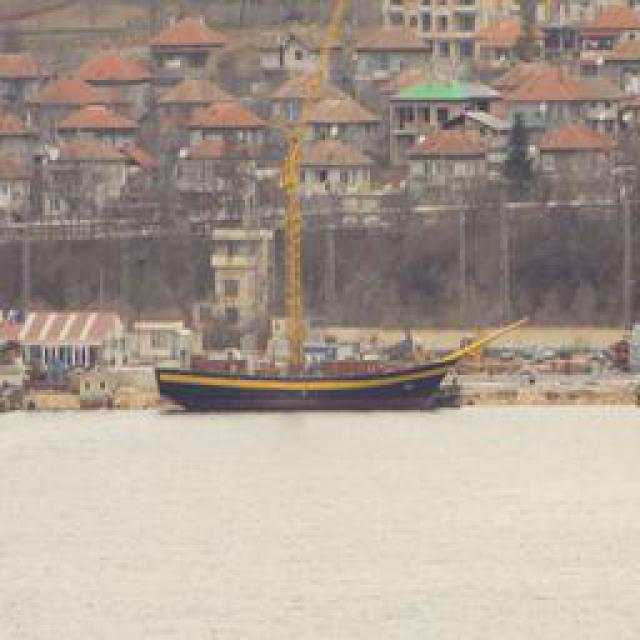Ship: (161, 344, 464, 414)
